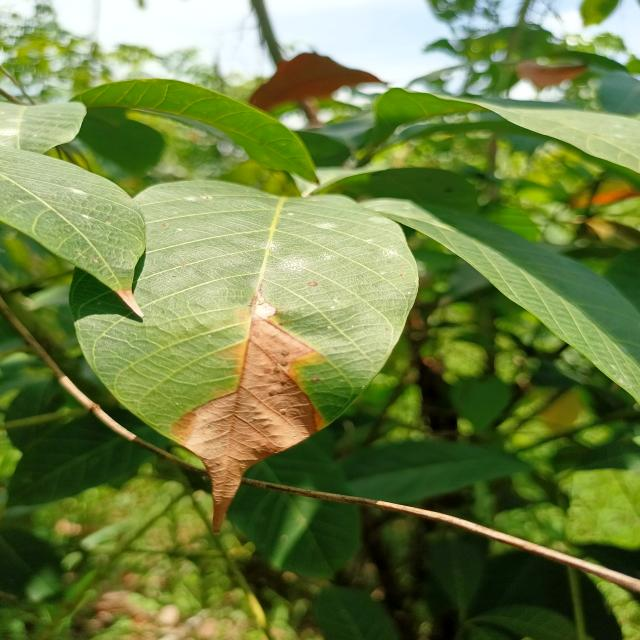Colletotrichum: (307, 280, 319, 287)
Leaf-Blight: (169, 293, 324, 535)
